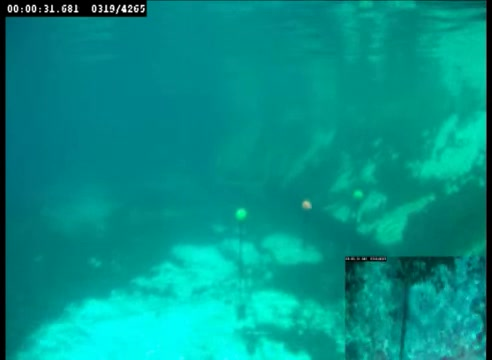buoy_green: (234, 207, 247, 223)
